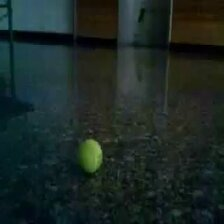tennis: (76, 139, 105, 175)
